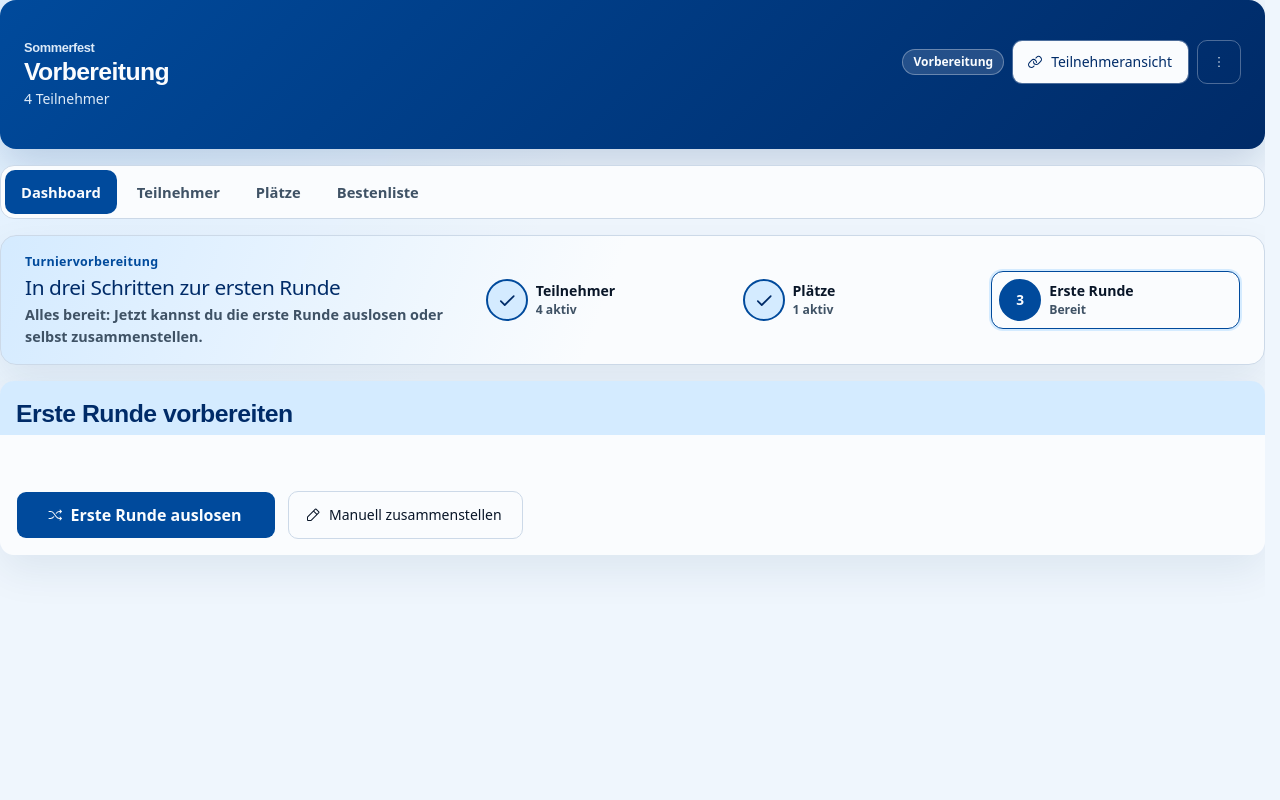
Test: draw feedback › does not reveal on failure and allows a retry
What coordinates should you click on to do the following:
click the button "Erste Runde auslosen"
I would click on:
 (146, 515)
Its box is [16,491,276,539].
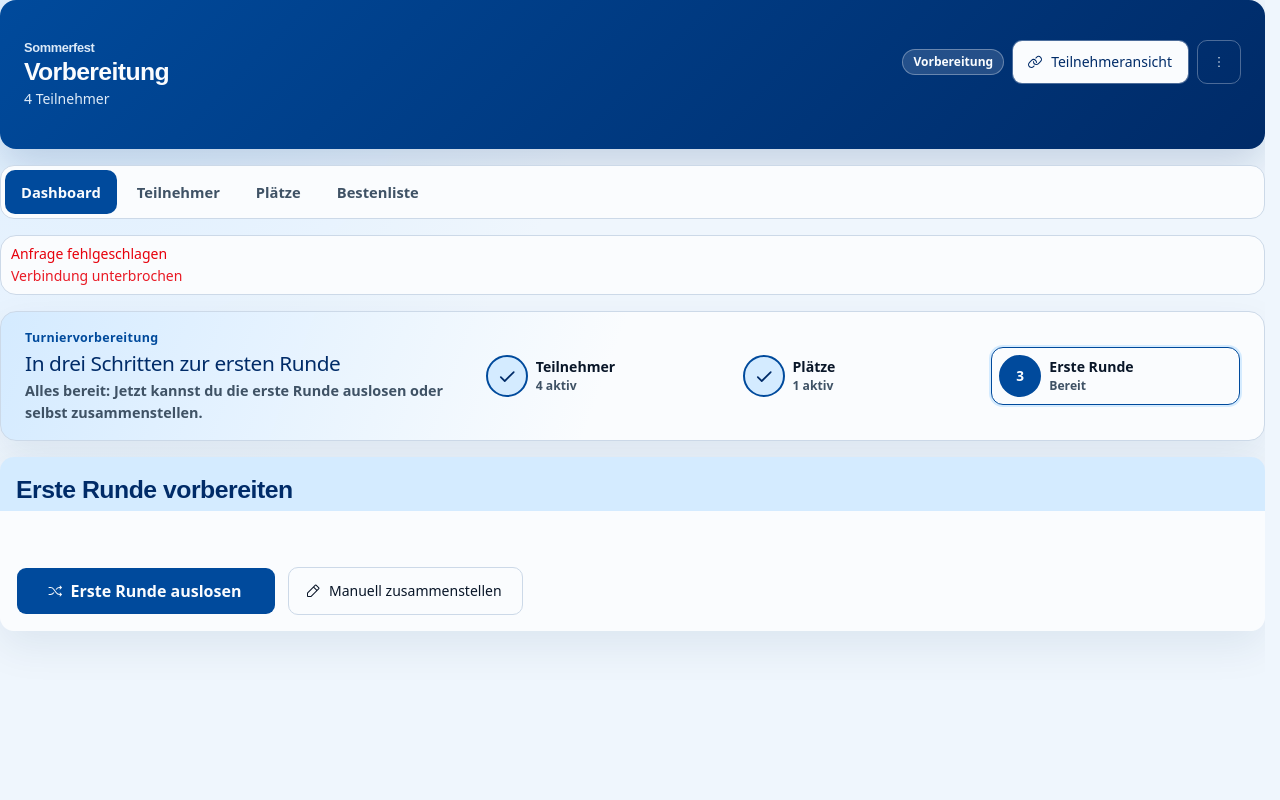
Check: the text "Verbindung unterbrochen" is shown, box [11,266,182,285]
What coordinates should you click on to do the following:
click the button "Erste Runde auslosen"
I would click on:
 (146, 591)
Its box is [16,567,276,615].
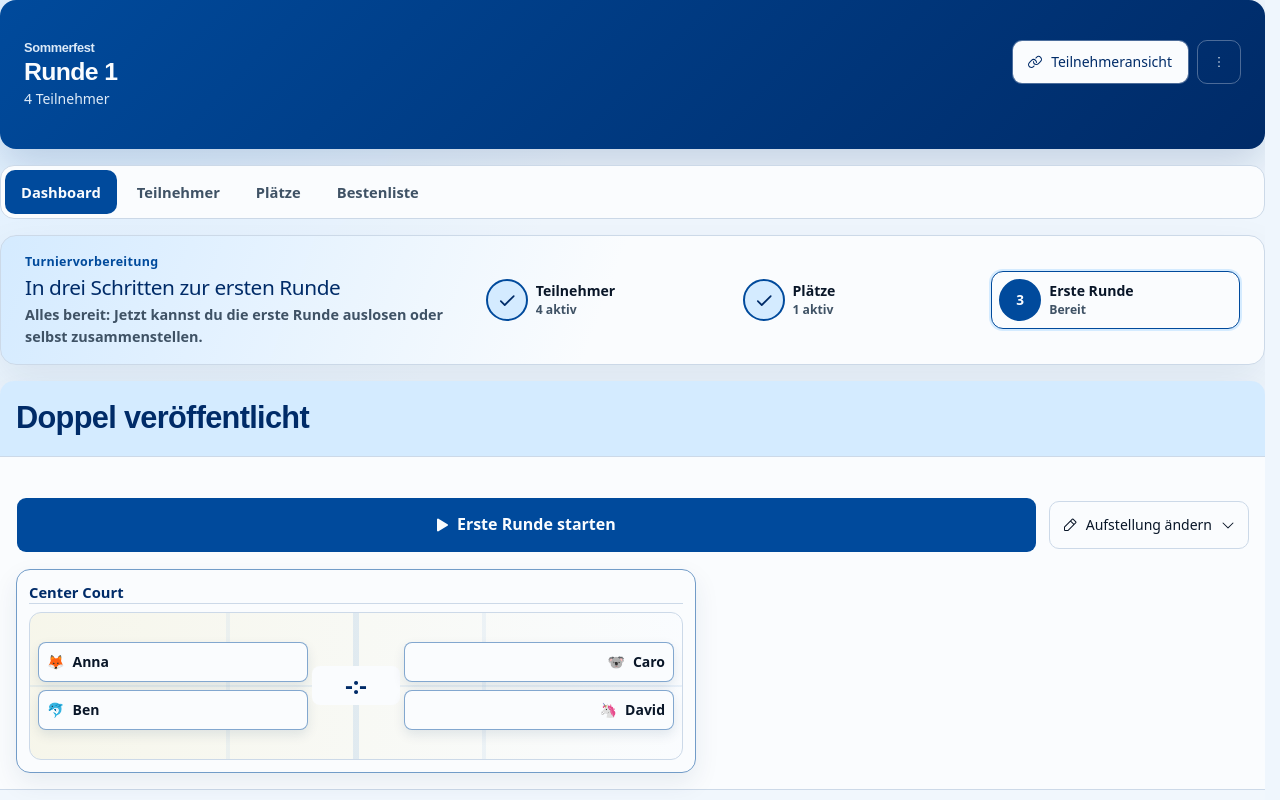
Check: the button "Erste Runde starten" is shown, box [16,496,1037,552]
Check: the element with class "is-draw-reveal" is shown, box [16,568,696,772]
